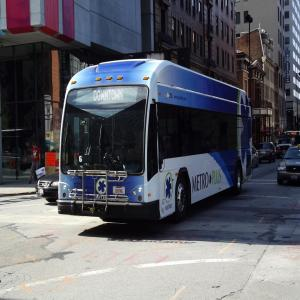Vehicle-registration-plate: (114, 188, 126, 196), (292, 176, 299, 180)
